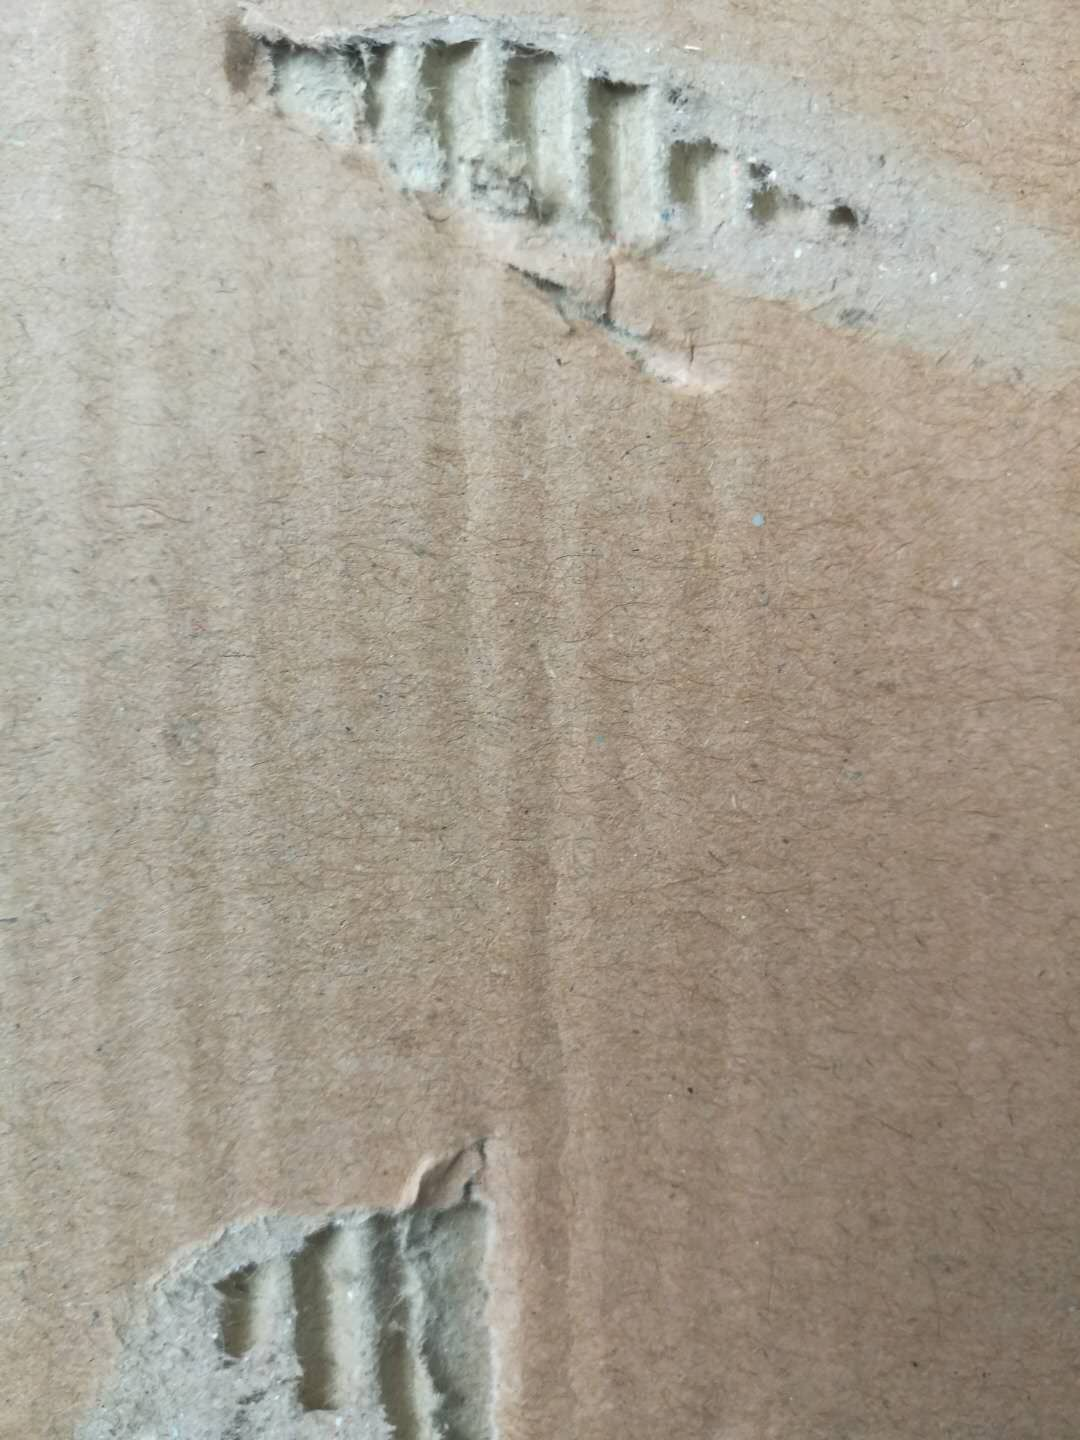defect: (211, 2, 1080, 474), (37, 1113, 571, 1440)
